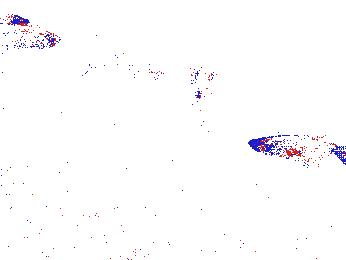redtail glassfish: (247, 134, 346, 169), (79, 50, 165, 87), (1, 21, 62, 54)
